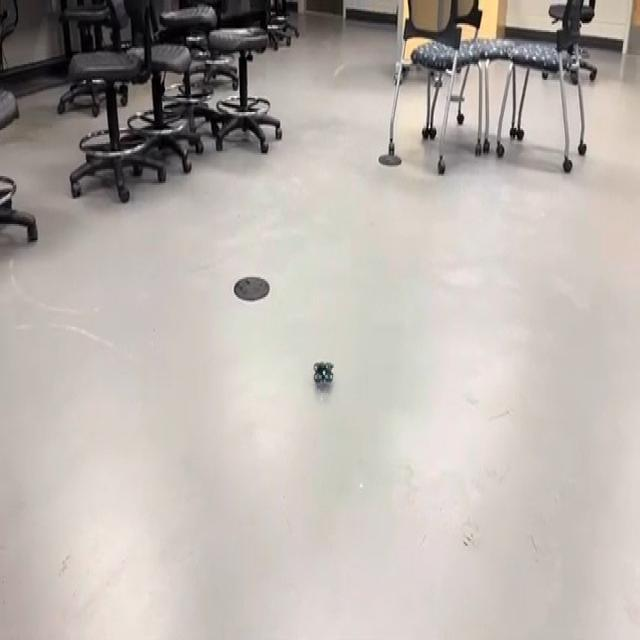drone: (307, 346, 340, 397)
